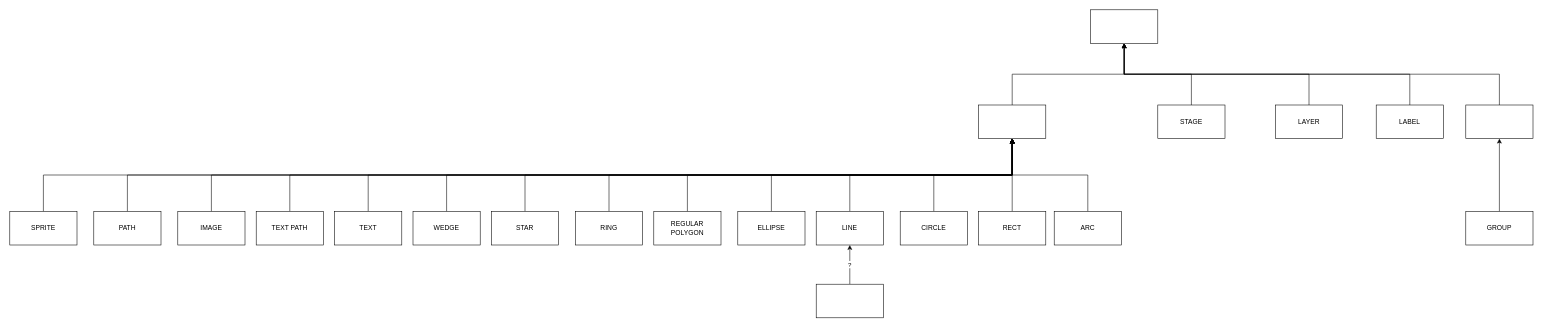
This 1543x328 diagram has some shape labels left out. Each missing label, with the box of its shape:
ARROW: (816, 284, 883, 318)
CONTAINER: (1465, 104, 1533, 139)
NODE: (1090, 9, 1158, 43)
SHAPE: (978, 104, 1046, 139)
